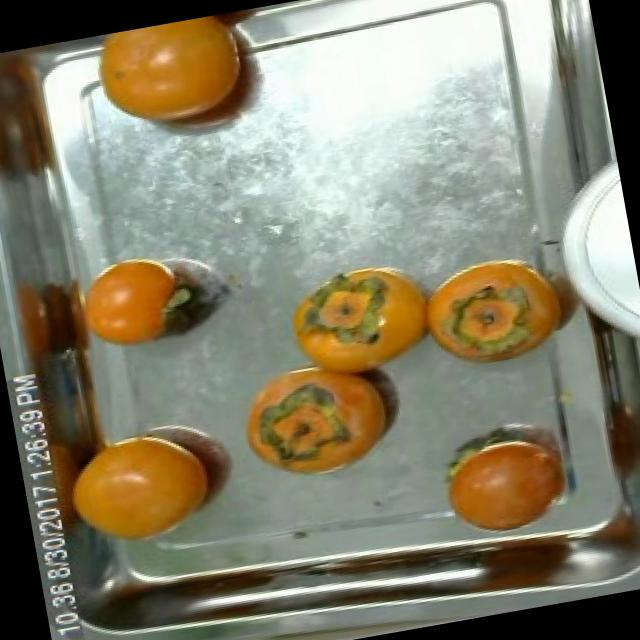Fruit: (77, 5, 283, 158), (224, 344, 408, 494), (406, 236, 591, 384), (54, 411, 230, 562), (424, 410, 587, 546), (69, 233, 211, 365), (0, 38, 101, 200)
